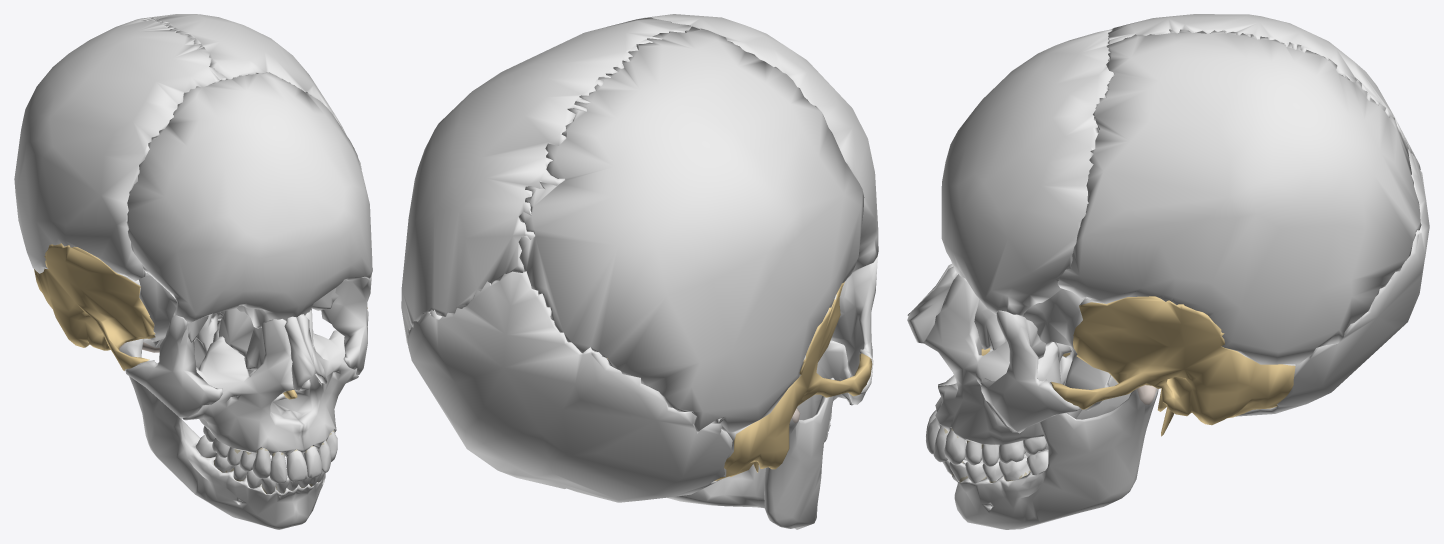
The model's file is SKULL.fbx.
The picture shows the model from 3 angles, left to right: view 1: azimuth 30°, elevation 25°; view 2: azimuth 150°, elevation 25°; view 3: azimuth 270°, elevation 25°; orthographic projection. The views are drawn at different scales.
Parts seen in each view (by area): view 1: Parietal bone.l.001; view 2: Parietal bone.l.001; view 3: Parietal bone.l.001.
Part boxes in pixels (x1,y1,x2,y2): Parietal bone.l.001: (14,14,372,529); Parietal bone.l.001: (401,14,878,529); Parietal bone.l.001: (907,14,1429,529).
Size of the model in its own units: 14.9 by 20.91 by 20.42.
